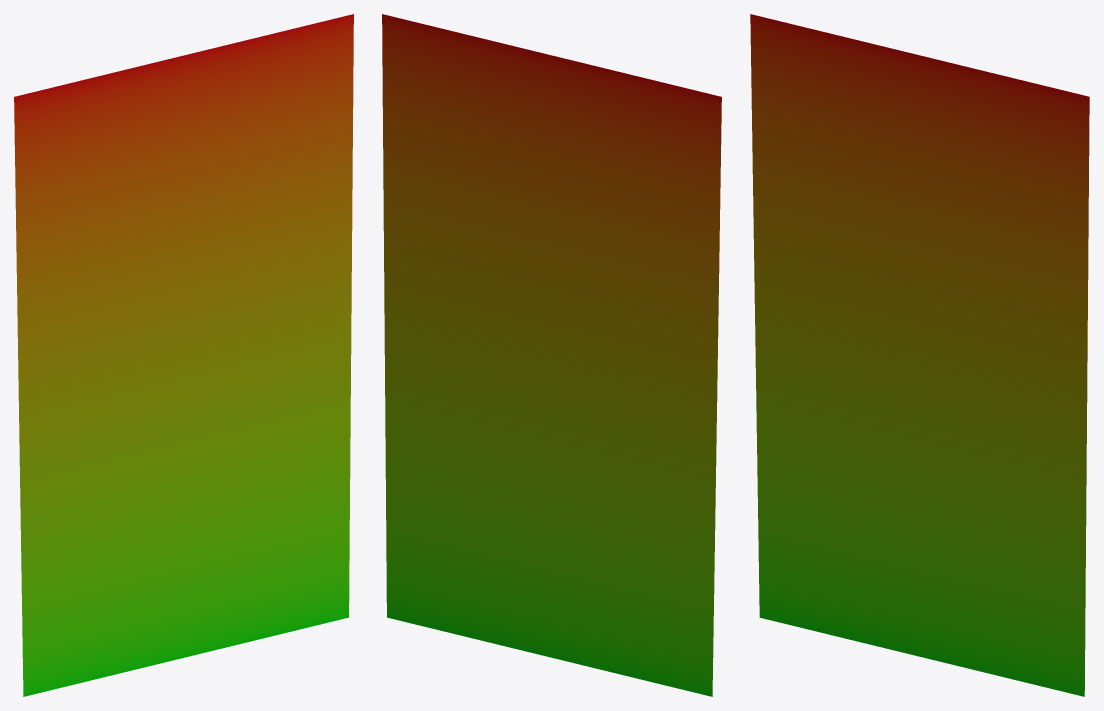
Rendered from Dead Broom Bush_LOD3_Var2_tlpjdhwia.fbx.
The picture shows the model from 3 angles, left to right: view 1: azimuth 30°, elevation 25°; view 2: azimuth 150°, elevation 25°; view 3: azimuth 330°, elevation 25°; orthographic projection.
Parts seen in each view (by area): view 1: _8bdd_Var2_LOD3; view 2: _8bdd_Var2_LOD3; view 3: _8bdd_Var2_LOD3.
Boxes of the visible parts, x1,y1,x2,y2 form: _8bdd_Var2_LOD3: (14, 14, 353, 696); _8bdd_Var2_LOD3: (382, 14, 721, 696); _8bdd_Var2_LOD3: (750, 14, 1089, 696).
Bounding box in the file's own units: 29.63 × 50.19 × 8.23e-06.
